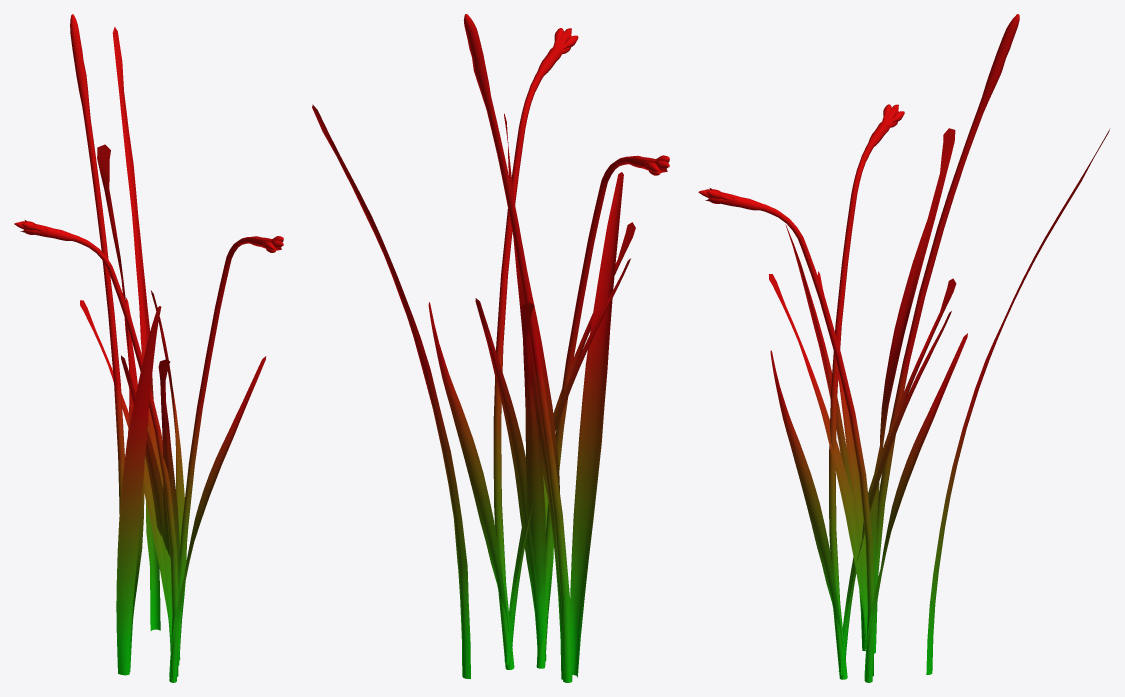
Rendered from Rush Daffodil_LOD0_Var22_wftgfjaia.fbx.
The picture shows the model from 3 angles, left to right: view 1: azimuth 30°, elevation 25°; view 2: azimuth 150°, elevation 25°; view 3: azimuth 270°, elevation 25°; orthographic projection. The views are drawn at different scales.
Parts seen in each view (by area): view 1: _86ic_var22_LOD0; view 2: _86ic_var22_LOD0; view 3: _86ic_var22_LOD0.
Boxes of the visible parts, x1=… form: _86ic_var22_LOD0: x1=14, y1=14, x2=283, y2=682; _86ic_var22_LOD0: x1=312, y1=14, x2=669, y2=682; _86ic_var22_LOD0: x1=698, y1=14, x2=1110, y2=682.
Bounding box in the file's own units: 11.26 × 32.68 × 18.65.
